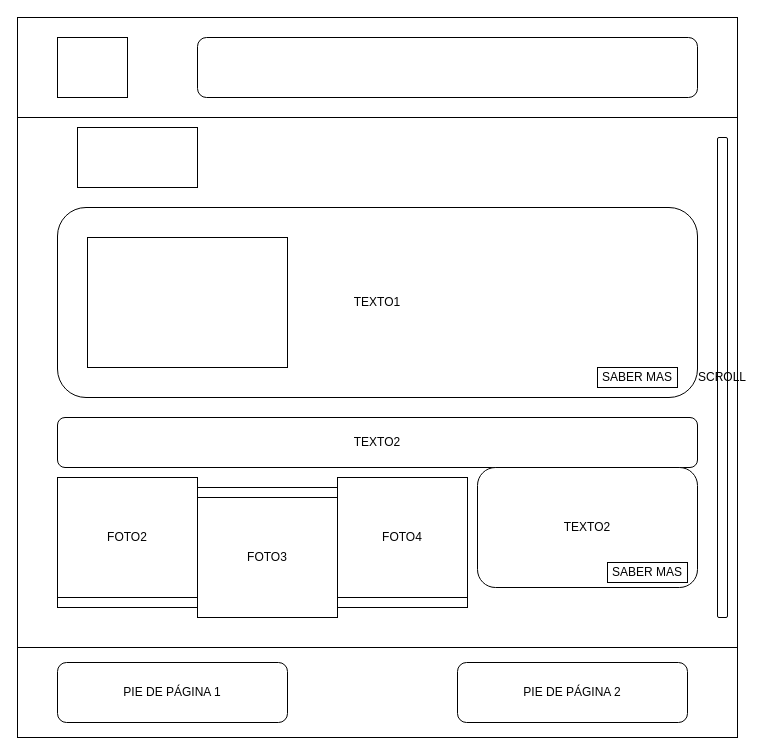
The diagram is 764 pixels wide and 755 high, and some of its shapes have lost their labels. Each missing label, with the centre of its shape:
BLOG MEDIEVALES: (137,157)
FOTO1: (187,302)
LOGO: (92,67)
MENU DE NAVEGACIÓN: (447,67)
